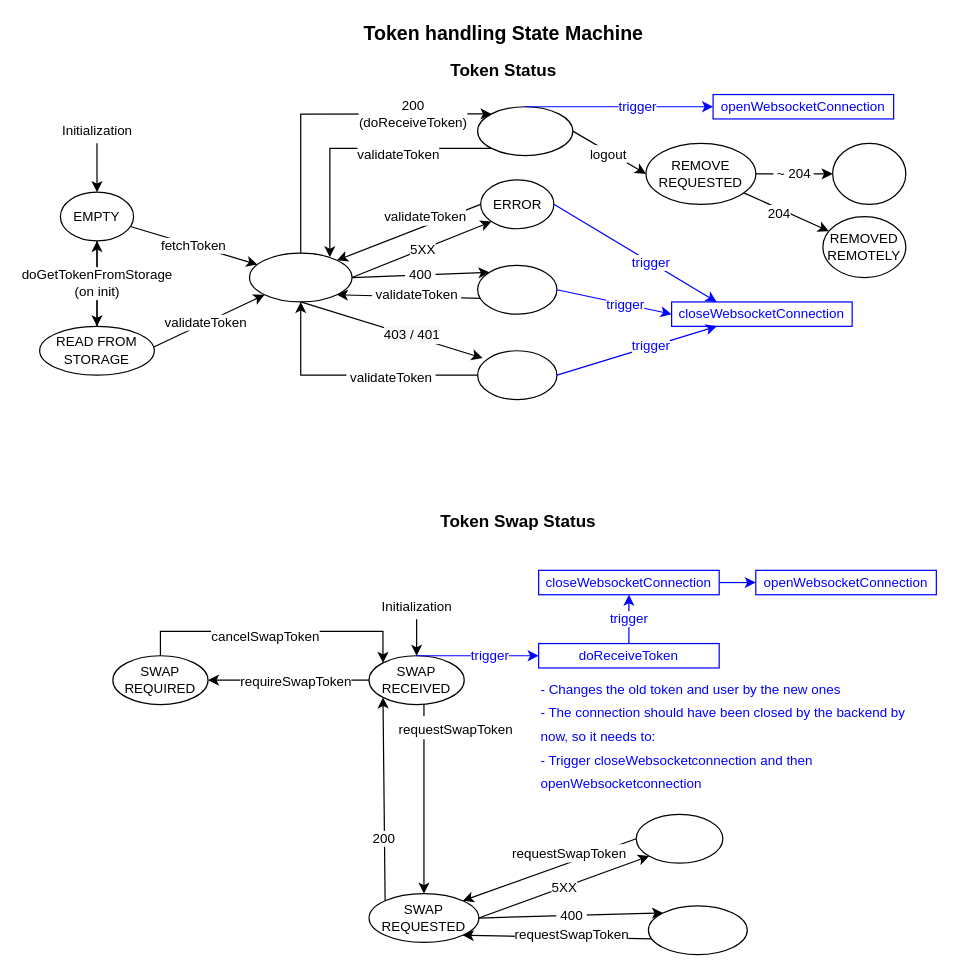
This 958x976 diagram has some shape labels left out. Here are the shapes that lost their labels. From the top down, the box of each, then its label:
(476, 106, 573, 156): RECEIVED
(831, 142, 906, 204): REMOVE ERROR
(248, 252, 352, 302): REQUESTED
(476, 264, 557, 314): REJECTED
(476, 350, 557, 400): EXPIRED
(635, 813, 723, 863): SWAP ERROR
(647, 905, 747, 955): SWAP REJECTED
